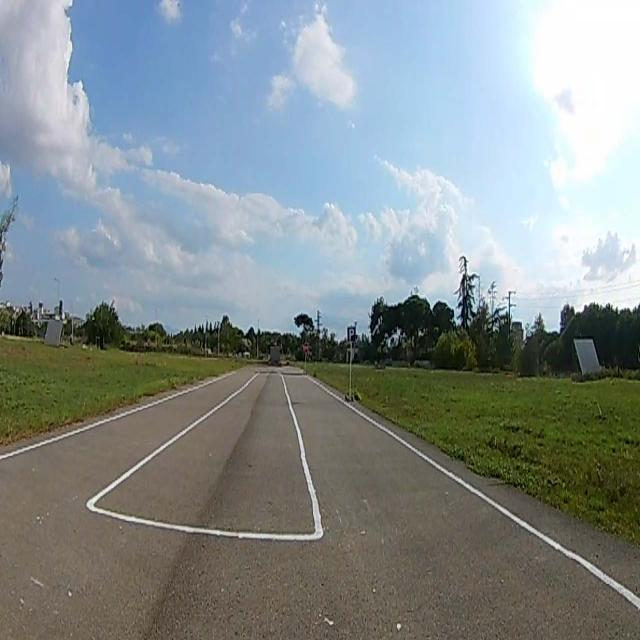park: (348, 326, 356, 342)
